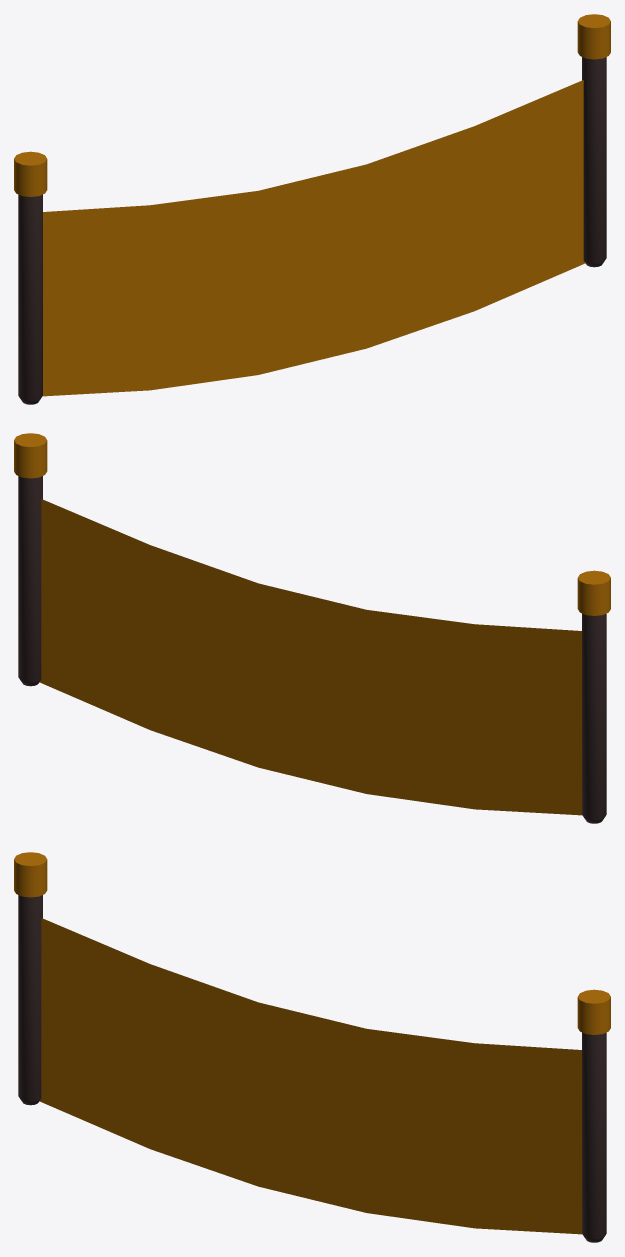
The model's file is Hanging Cloth2.fbx.
The picture shows the model from 3 angles, top to bottom: view 1: azimuth 30°, elevation 25°; view 2: azimuth 150°, elevation 25°; view 3: azimuth 330°, elevation 25°; orthographic projection.
Parts seen in each view (by area): view 1: HangingCloth2; view 2: HangingCloth2; view 3: HangingCloth2.
Part boxes in pixels (left/top/right/bottom): HangingCloth2: left=14, top=14, right=610, bottom=404; HangingCloth2: left=14, top=433, right=610, bottom=823; HangingCloth2: left=14, top=852, right=610, bottom=1242.
Size of the model in its own units: 322 by 141 by 15.67.
